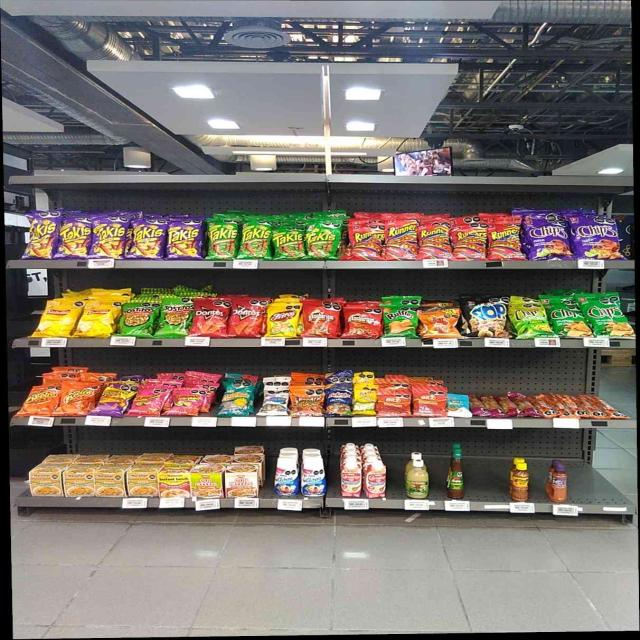bitzAlmendras: (448, 394, 470, 415)
bitzEnchilado90: (414, 384, 446, 416), (378, 388, 410, 415)
bitzEnchilado95: (540, 394, 614, 418)
bitzHabanero: (487, 395, 499, 416), (471, 396, 484, 415), (502, 396, 514, 416), (518, 396, 530, 415)
bokadosCacahuates: (327, 384, 351, 416)
botaneraChilito: (511, 462, 529, 501)
cheetosFlaminHot: (101, 383, 128, 414)
cheetosOriginal: (61, 382, 88, 416), (28, 385, 56, 414)
chipsFuego: (574, 217, 619, 259), (529, 220, 569, 260)
chipsJalapeno: (594, 297, 626, 338), (556, 304, 586, 337)
chipsPapatinas: (515, 303, 547, 337)
churrumais: (136, 386, 164, 413), (174, 390, 199, 416)
delPrimoSalsa: (406, 459, 429, 498)
doritosNacho: (196, 299, 228, 336), (233, 299, 261, 337)
fritosLimon: (268, 303, 298, 336)
hotNutsOriginal: (424, 310, 458, 338)
leoCacahuates: (263, 385, 287, 415)
leoMix: (292, 386, 322, 416)
maruchanPollo: (31, 464, 64, 496), (66, 464, 94, 496), (128, 465, 156, 496), (97, 465, 125, 496)
maruchanRes: (159, 464, 189, 496)
nestleCarnation: (364, 461, 386, 497), (341, 461, 362, 496)
nestleLechera: (276, 457, 299, 495), (302, 459, 325, 496)
nissinCamaron: (192, 464, 223, 498)
nissinRes: (226, 464, 258, 496)
popKarameladas: (468, 296, 506, 338)
rancheritos: (345, 307, 381, 337), (304, 304, 337, 336)
rufflesQueso: (385, 306, 417, 338)
runners: (385, 219, 418, 260), (452, 226, 486, 261), (349, 224, 381, 259), (420, 224, 451, 260), (489, 224, 520, 260)
sabritasOriginal: (45, 303, 75, 335), (86, 302, 115, 335)
salsaBufalo: (448, 452, 463, 498)
semillasCalabaza: (355, 385, 374, 414)
semillasGirasol: (224, 382, 248, 414)
tajinDulce: (550, 464, 567, 502)
takisFuego: (28, 213, 55, 259), (93, 217, 123, 258), (168, 221, 200, 259), (132, 220, 162, 260), (60, 218, 88, 258)
takisOriginal: (306, 220, 339, 259), (207, 218, 237, 260), (241, 221, 269, 259), (273, 228, 303, 258)
tostitos: (162, 298, 190, 336), (126, 302, 154, 336)
